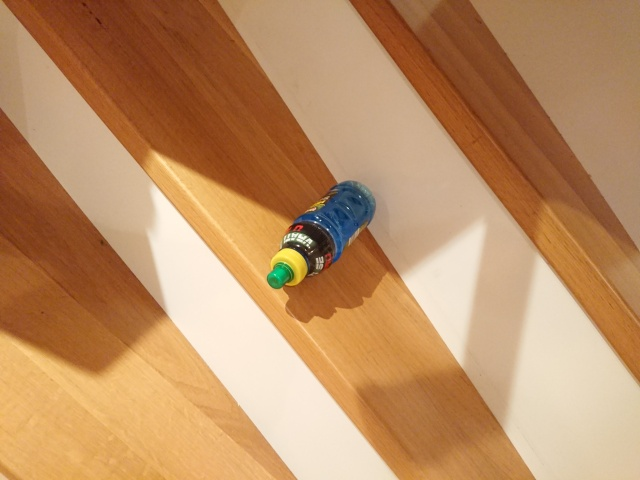Vindi Iso Sport Forest Strawberries 500mL: (264, 177, 378, 290)
